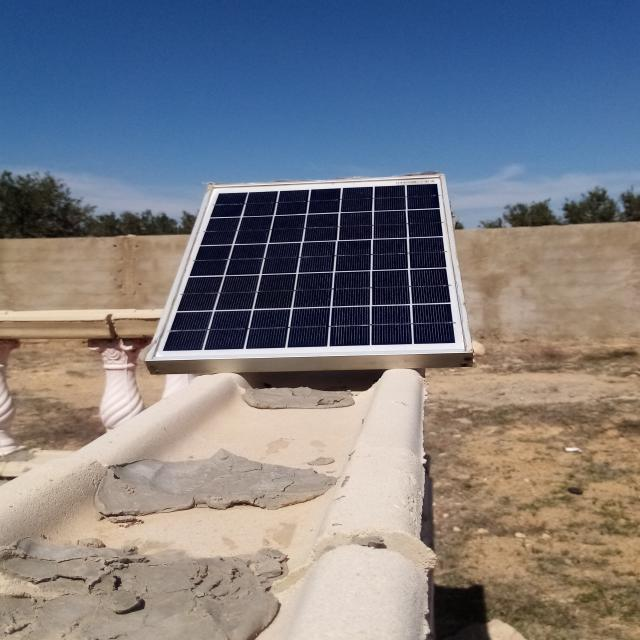Normal Solar Panel: (148, 175, 466, 362)
